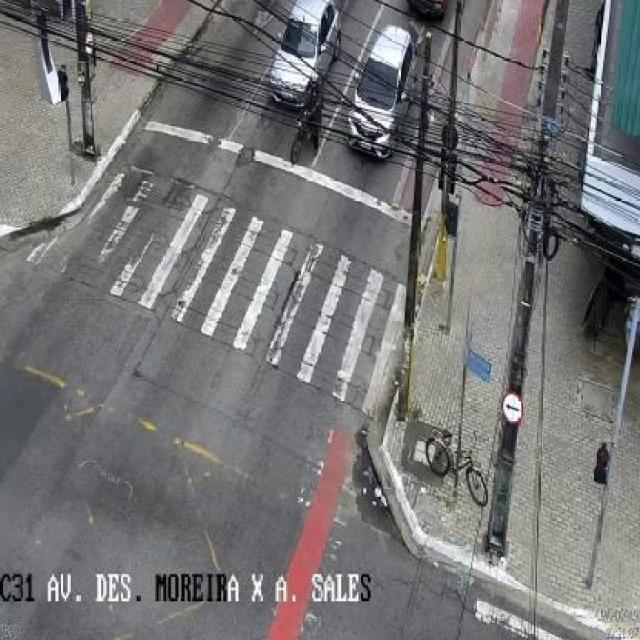Car: (243, 2, 355, 120), (343, 28, 427, 148)
Cycle: (404, 428, 499, 514)
